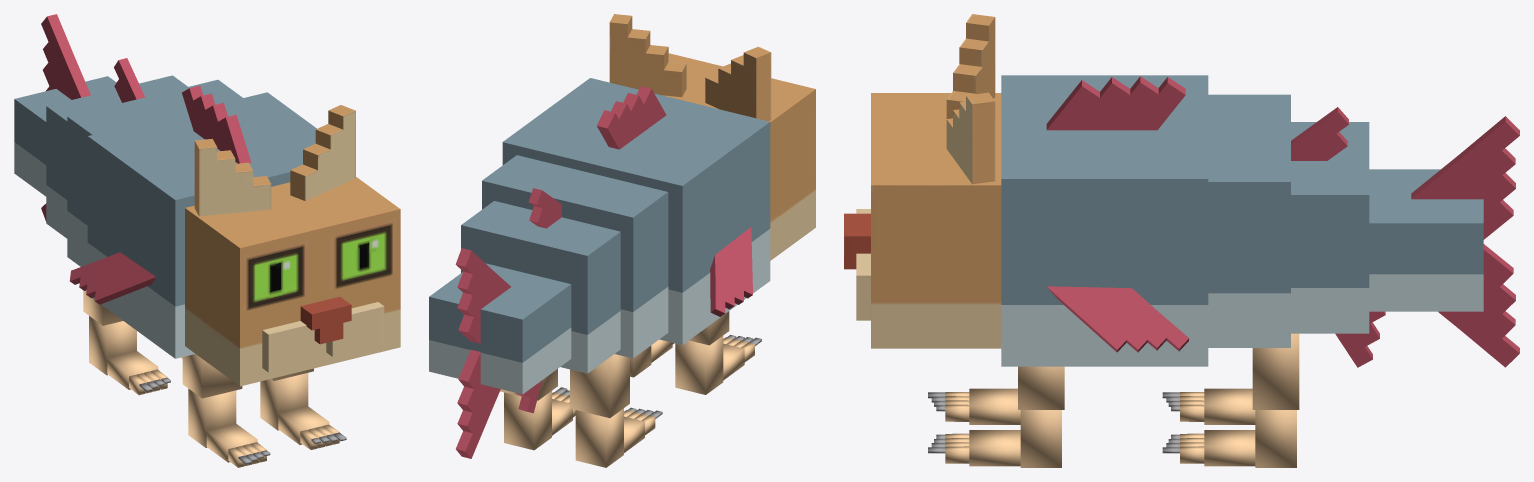
The model's file is trulimeroTrulicini.fbx.
The picture shows the model from 3 angles, left to right: view 1: azimuth 30°, elevation 25°; view 2: azimuth 150°, elevation 25°; view 3: azimuth 270°, elevation 25°; orthographic projection. The views are drawn at different scales.
Parts seen in each view (by area): view 1: trulimeroTrulicini; view 2: trulimeroTrulicini; view 3: trulimeroTrulicini.
Boxes of the visible parts, x1=… form: trulimeroTrulicini: x1=14, y1=14, x2=400, y2=467; trulimeroTrulicini: x1=429, y1=14, x2=815, y2=467; trulimeroTrulicini: x1=844, y1=14, x2=1519, y2=467.
Bounding box in the file's own units: 409 × 515 × 832.
